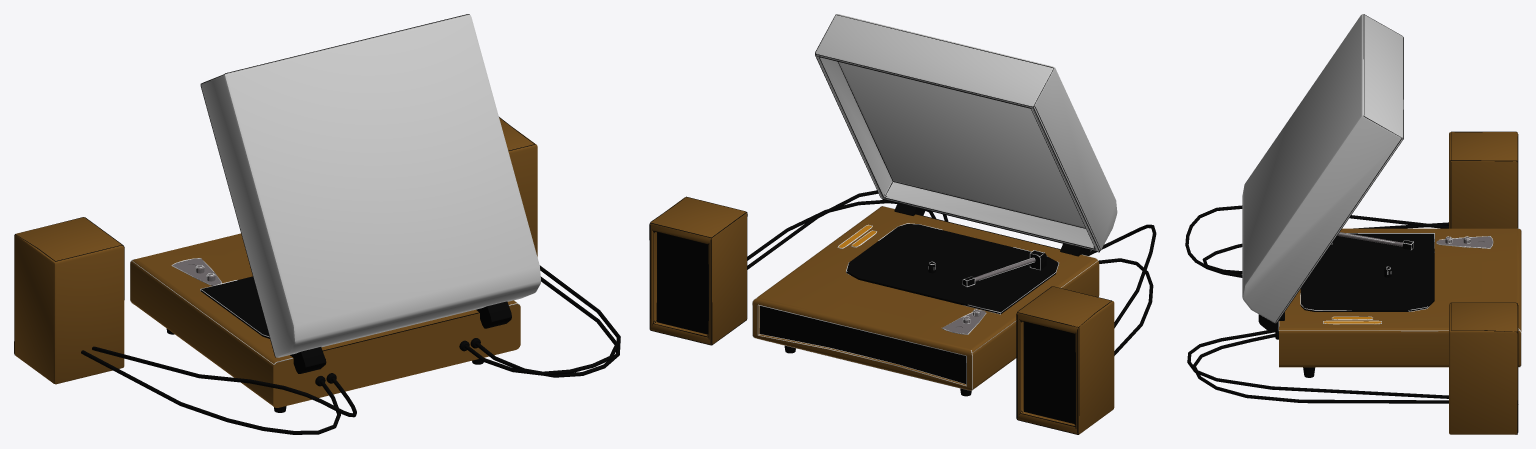
The picture shows the model from 3 angles, left to right: view 1: azimuth 30°, elevation 25°; view 2: azimuth 150°, elevation 25°; view 3: azimuth 270°, elevation 25°; orthographic projection. The views are drawn at different scales.
Visible parts, largest first — view 1: Cube.027, Cube.001, Cube.023, Cube.022, LineArt.001; view 2: Cube.027, Cube.001, Cube.022, Cube.023, LineArt.001; view 3: Cube.001, Cube.027, Cube.022, Cube.023, LineArt.001.
Part boxes in pixels (<box>): Cube.027: <box>200,14,540,364</box>; Cube.001: <box>81,233,620,434</box>; Cube.023: <box>14,217,124,384</box>; Cube.022: <box>499,117,537,256</box>; LineArt.001: <box>130,258,519,364</box>; Cube.027: <box>815,14,1117,256</box>; Cube.001: <box>747,190,1156,396</box>; Cube.022: <box>649,196,747,345</box>; Cube.023: <box>1016,286,1114,434</box>; LineArt.001: <box>752,206,1098,390</box>; Cube.001: <box>1185,205,1521,403</box>; Cube.027: <box>1242,14,1403,323</box>; Cube.022: <box>1449,302,1518,434</box>; Cube.023: <box>1449,131,1518,228</box>; LineArt.001: <box>1278,228,1521,367</box>.
Size of the model in its own units: 1370 by 865 by 972.
